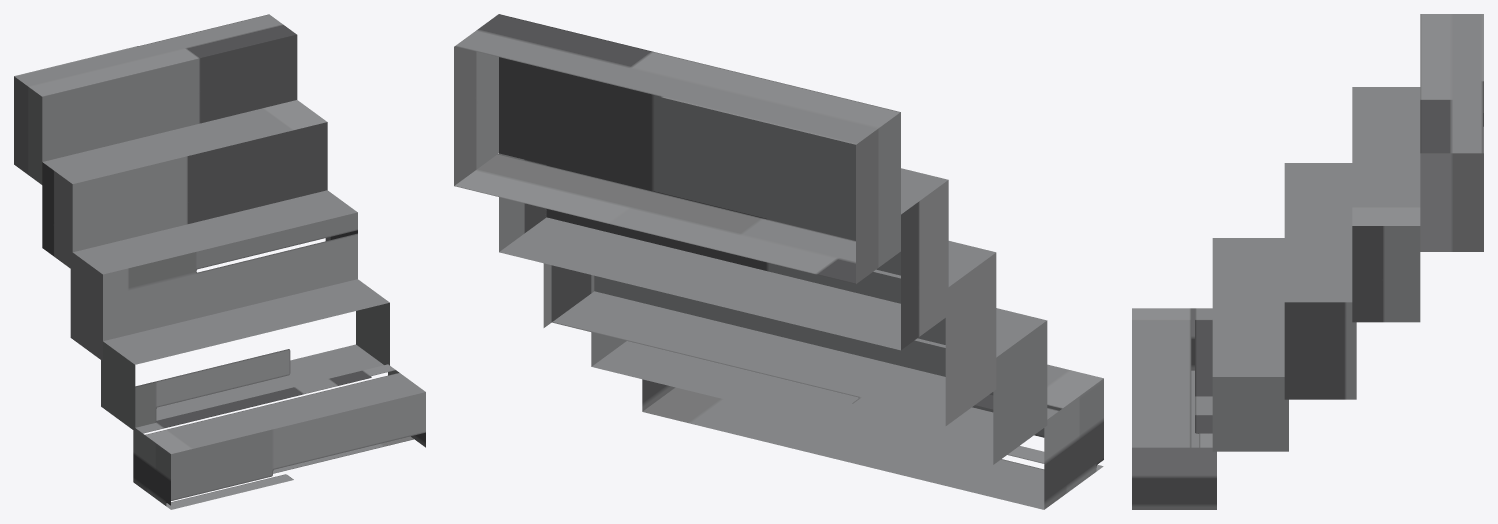
3 renders of one model, left to right at view 1: azimuth 30°, elevation 25°; view 2: azimuth 150°, elevation 25°; view 3: azimuth 270°, elevation 25°, orthographic. The views are drawn at different scales.
Size of the model in its own units: 0.9251 by 1.11 by 0.9878.
